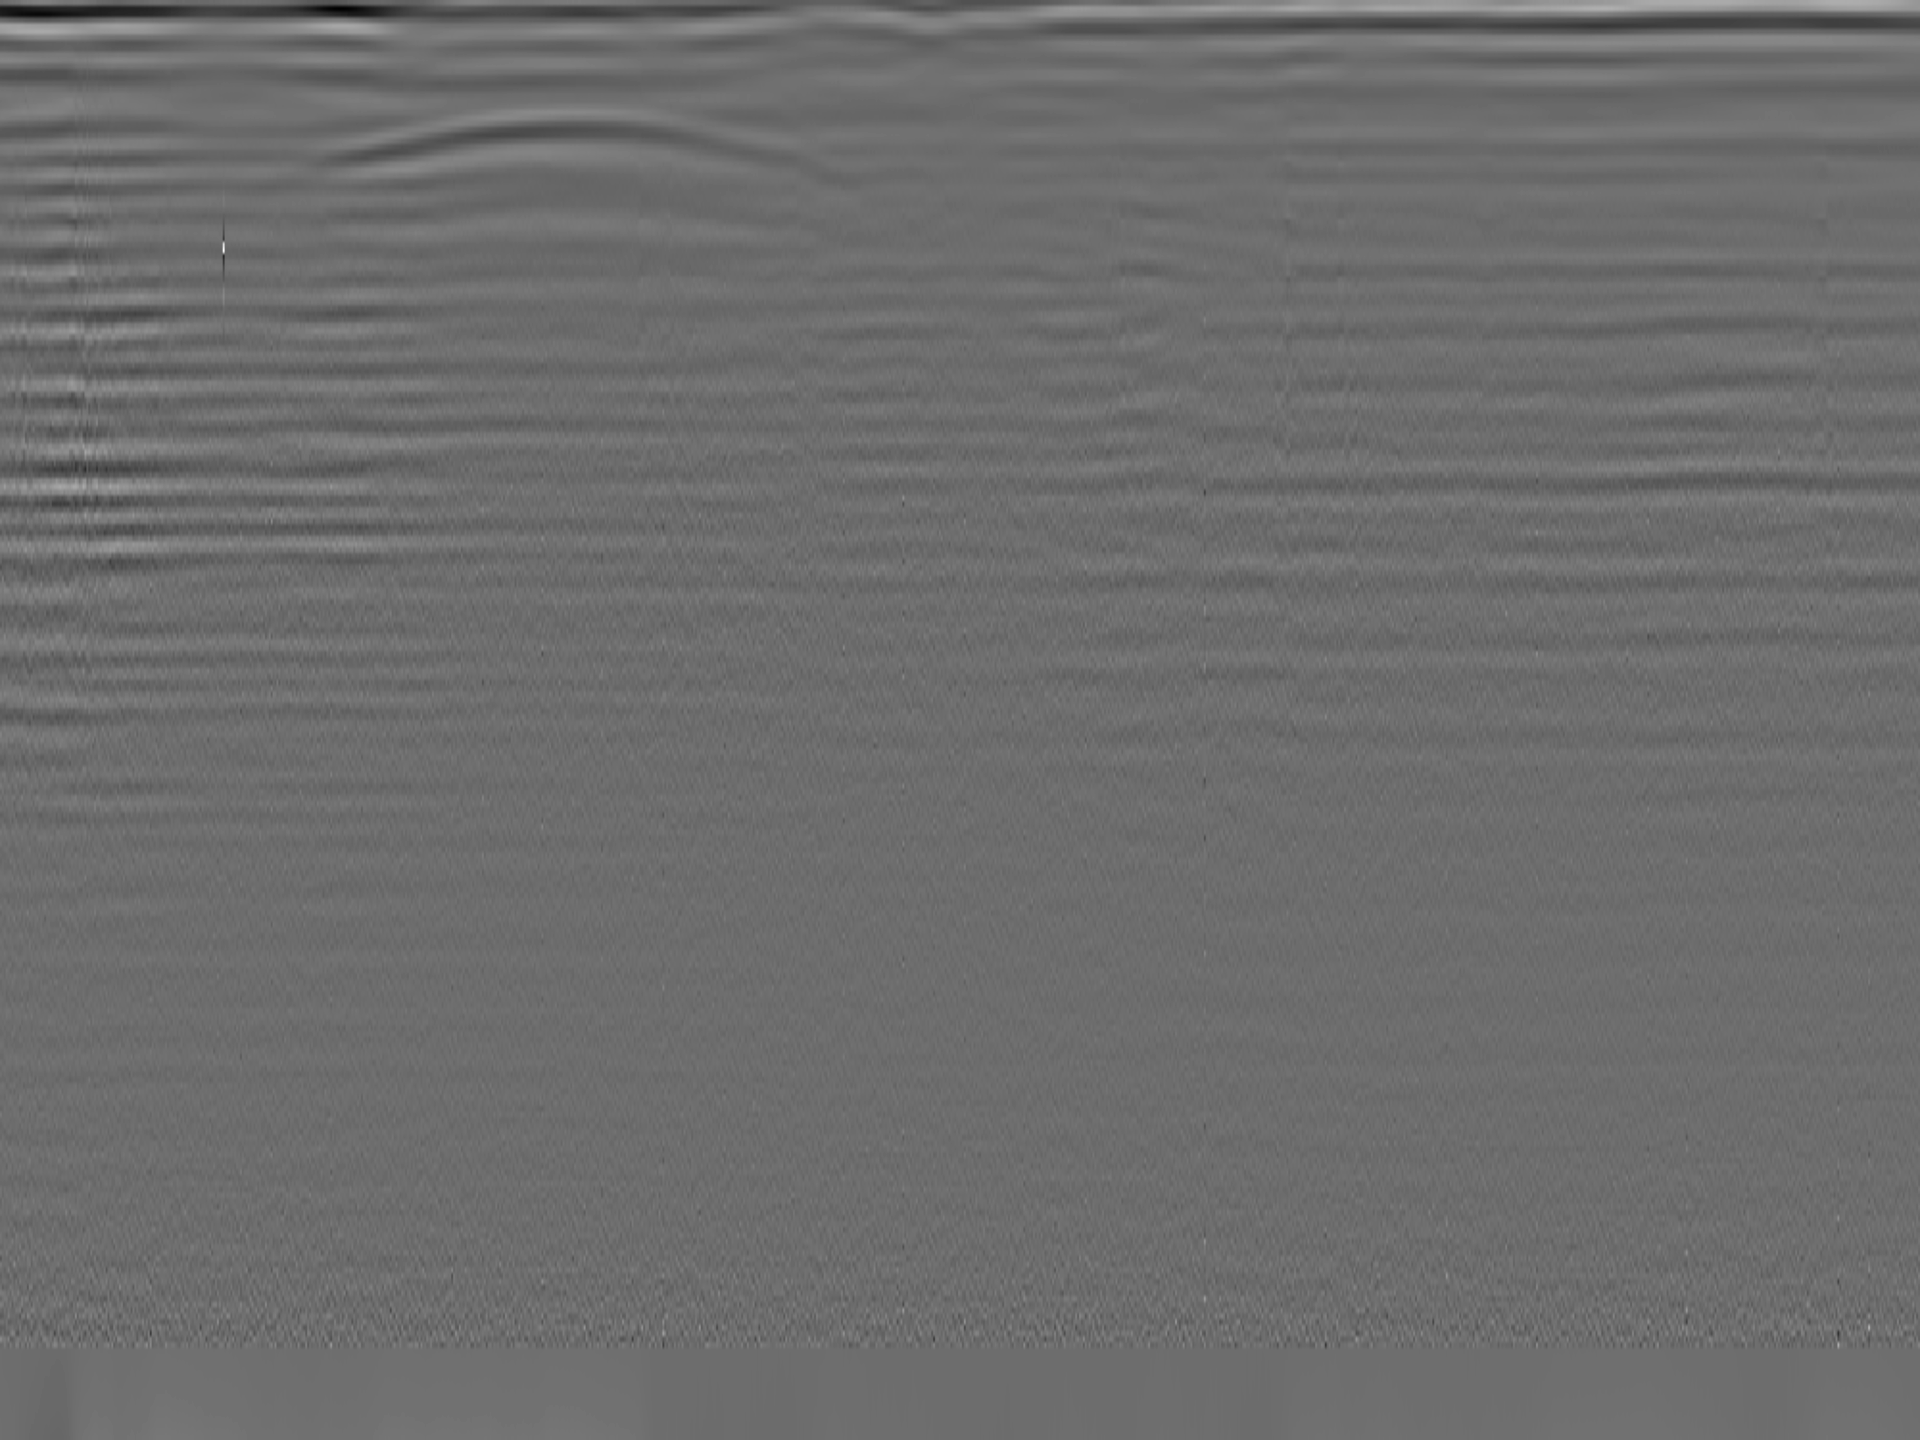Tunnel: (316, 109, 851, 178)
